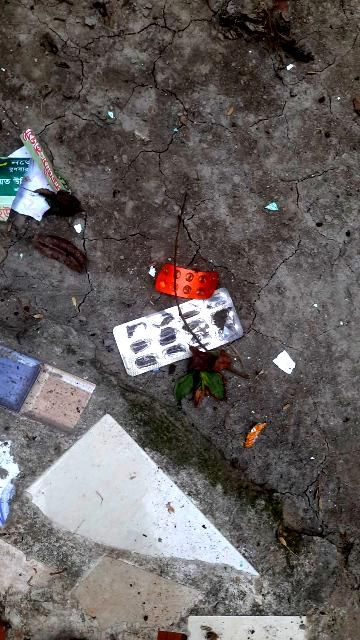medicine: (113, 267, 247, 383)
